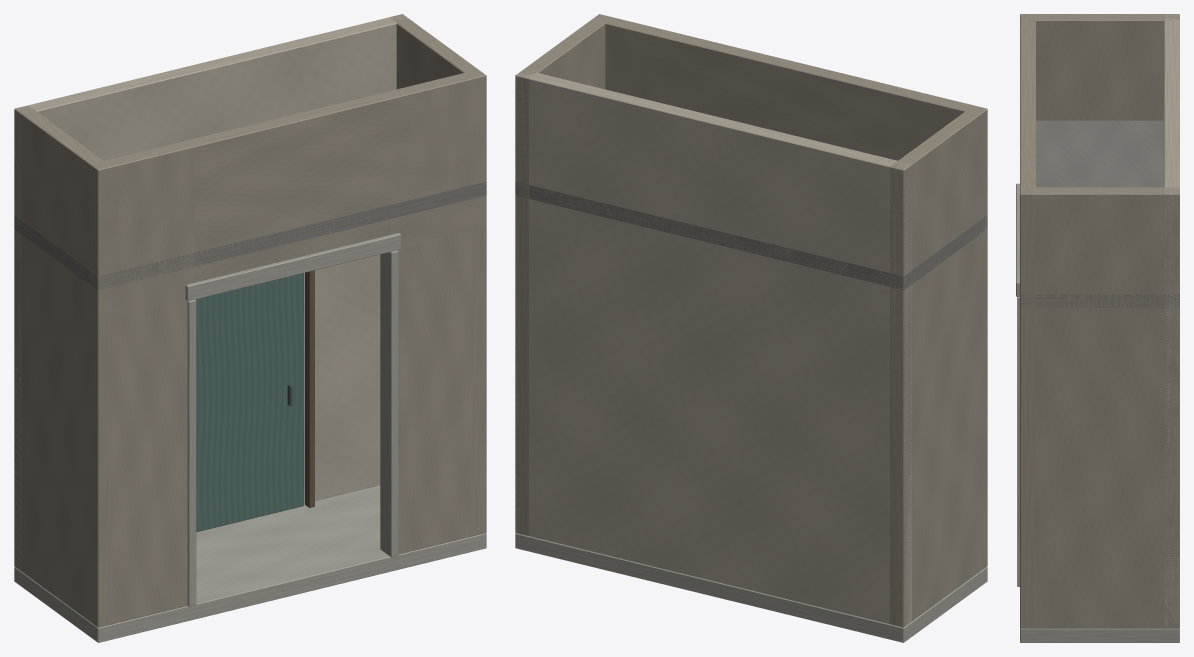
File: U02_RecessedApartmentEntry_visual.glb
3 views of the same model, side by side, from view 1: azimuth 30°, elevation 25°; view 2: azimuth 150°, elevation 25°; view 3: azimuth 270°, elevation 25° (orthographic). The views are drawn at different scales.
Visible parts, largest first — view 1: U02_RecessedApartmentEntry__VIS_shell, U02_RecessedApartmentEntry__VIS_roof; view 2: U02_RecessedApartmentEntry__VIS_shell, U02_RecessedApartmentEntry__VIS_roof; view 3: U02_RecessedApartmentEntry__VIS_shell, U02_RecessedApartmentEntry__VIS_roof.
Part boxes in pixels (bbox=[...]): U02_RecessedApartmentEntry__VIS_shell: bbox=[14, 14, 486, 642]; U02_RecessedApartmentEntry__VIS_roof: bbox=[14, 181, 486, 290]; U02_RecessedApartmentEntry__VIS_shell: bbox=[515, 14, 987, 642]; U02_RecessedApartmentEntry__VIS_roof: bbox=[515, 181, 987, 290]; U02_RecessedApartmentEntry__VIS_shell: bbox=[1016, 14, 1179, 642]; U02_RecessedApartmentEntry__VIS_roof: bbox=[1020, 120, 1179, 307].
Bounding box in the file's own units: 16 × 18.6 × 6.15.
1 material, 1 textured.
